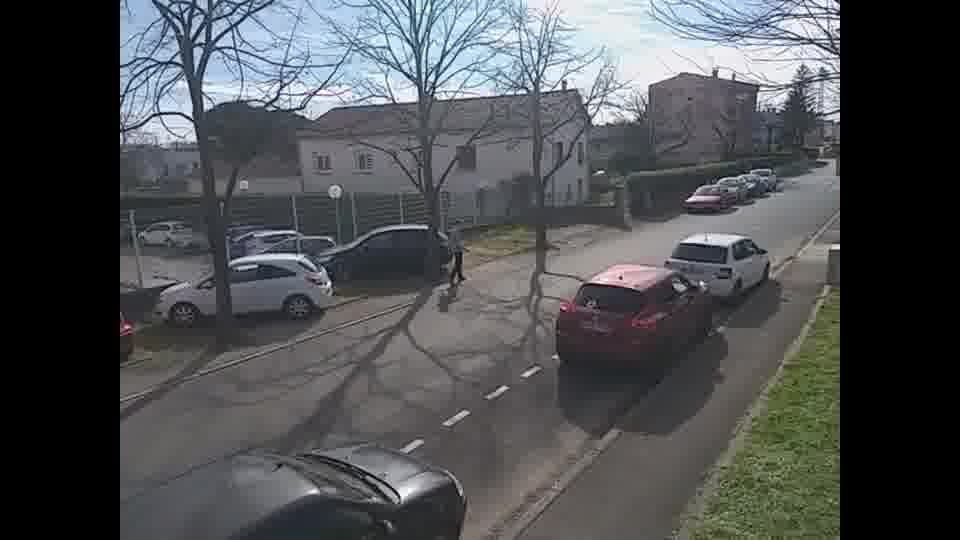jugador: (442, 214, 472, 291)
